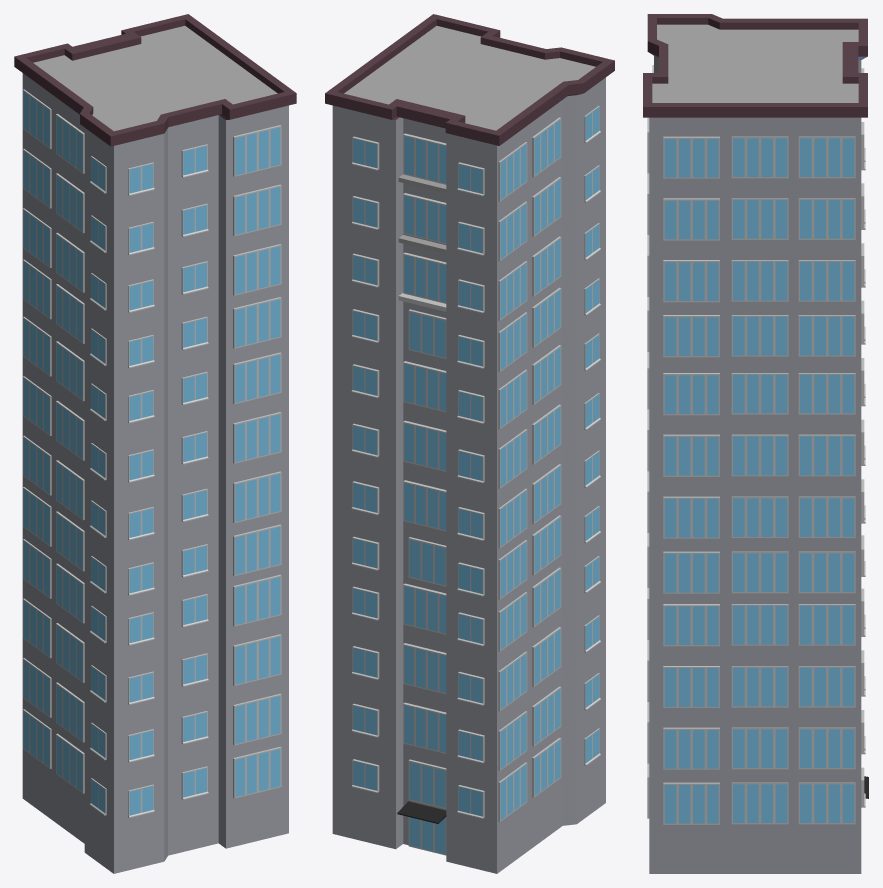
Rendered from SkyScraper_2.fbx.
The picture shows the model from 3 angles, left to right: view 1: azimuth 30°, elevation 25°; view 2: azimuth 150°, elevation 25°; view 3: azimuth 270°, elevation 25°; orthographic projection. The views are drawn at different scales.
Parts seen in each view (by area): view 1: Appartment; view 2: Appartment; view 3: Appartment.
Part boxes in pixels (left/top/right/bottom): Appartment: left=14, top=14, right=296, bottom=873; Appartment: left=325, top=14, right=614, bottom=873; Appartment: left=643, top=14, right=868, bottom=873.
Size of the model in its own units: 14.54 by 56.07 by 14.92.
